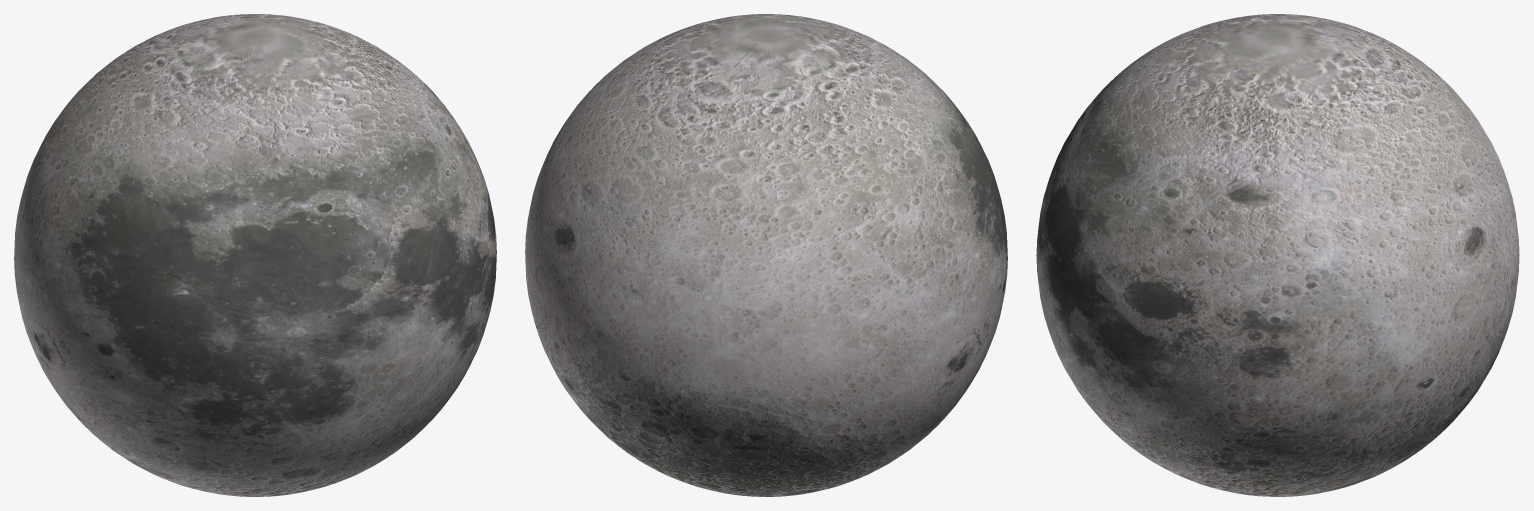
Rendered from Luna.gltf.
3 renders of one model, left to right at view 1: azimuth 30°, elevation 25°; view 2: azimuth 150°, elevation 25°; view 3: azimuth 270°, elevation 25°, orthographic.
Visible parts, largest first — view 1: Luna; view 2: Luna; view 3: Luna.
Part boxes in pixels (x1=…): Luna: x1=14, y1=14, x2=496, y2=496; Luna: x1=525, y1=14, x2=1007, y2=496; Luna: x1=1036, y1=14, x2=1519, y2=496.
Size of the model in its own units: 20 by 20 by 20.
Materials: 1 (1 with a texture image).
